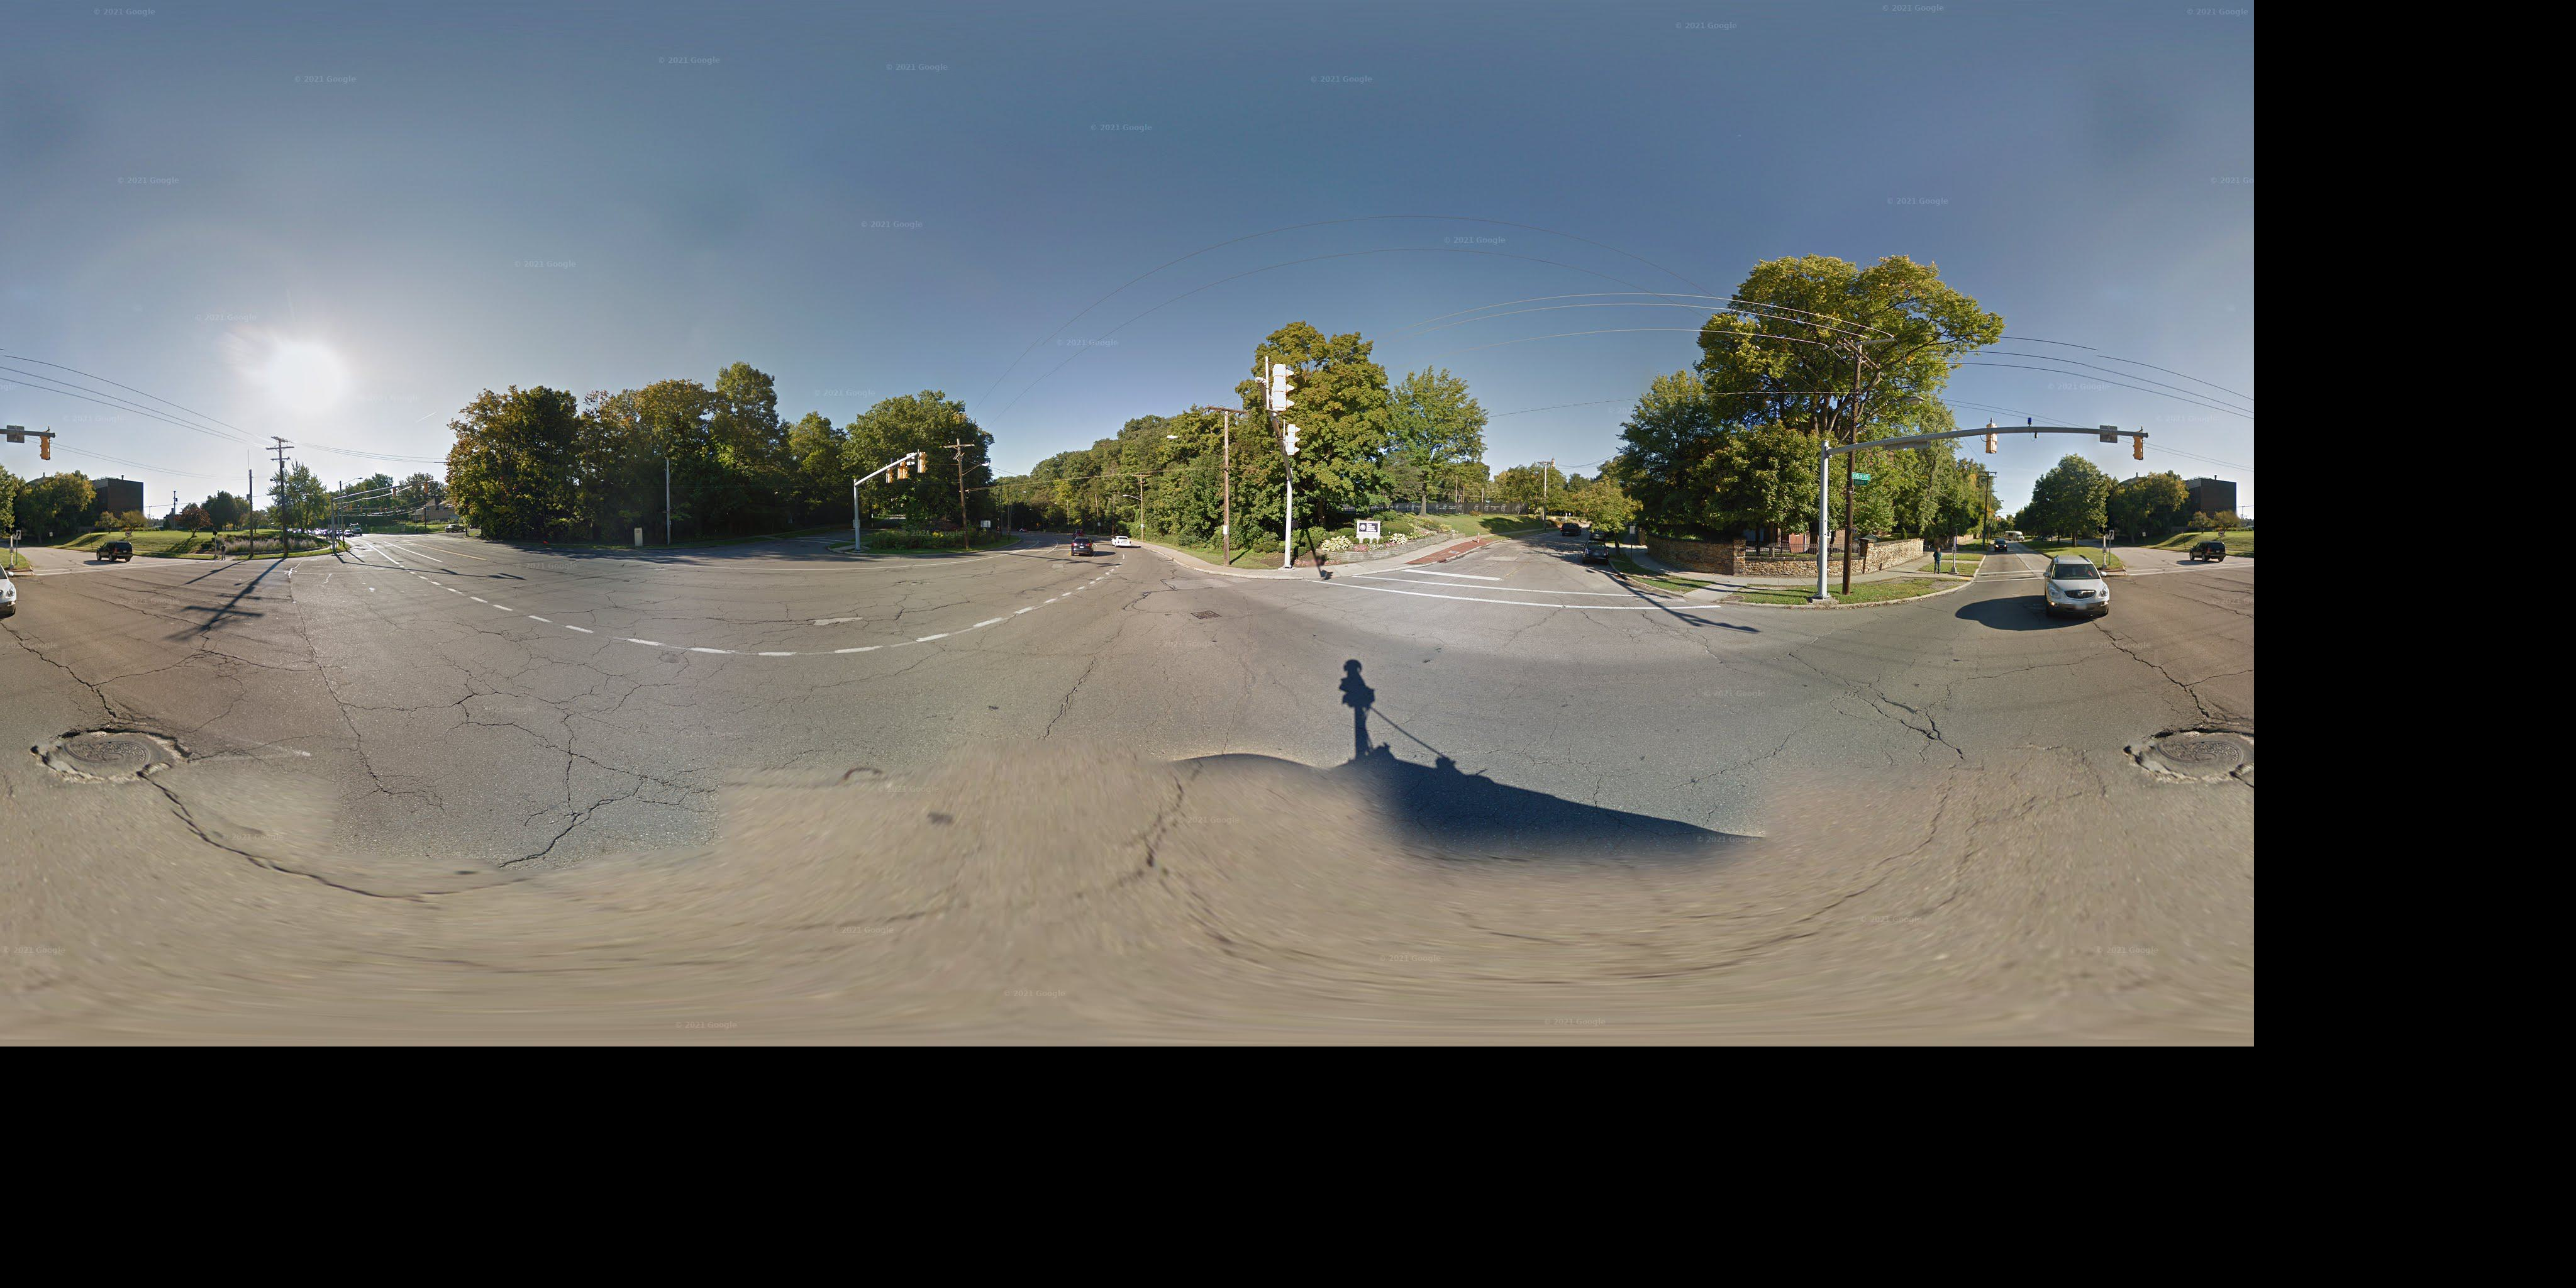Curb Ramp: (1686, 583, 1722, 605), (1952, 570, 1973, 583)
